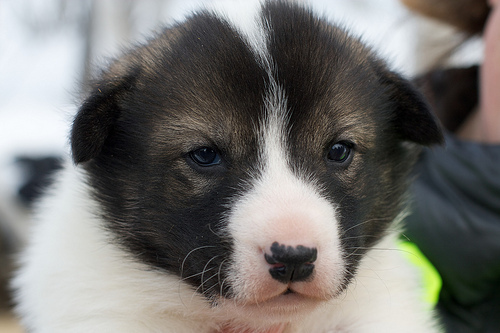dog: (8, 0, 499, 329)
